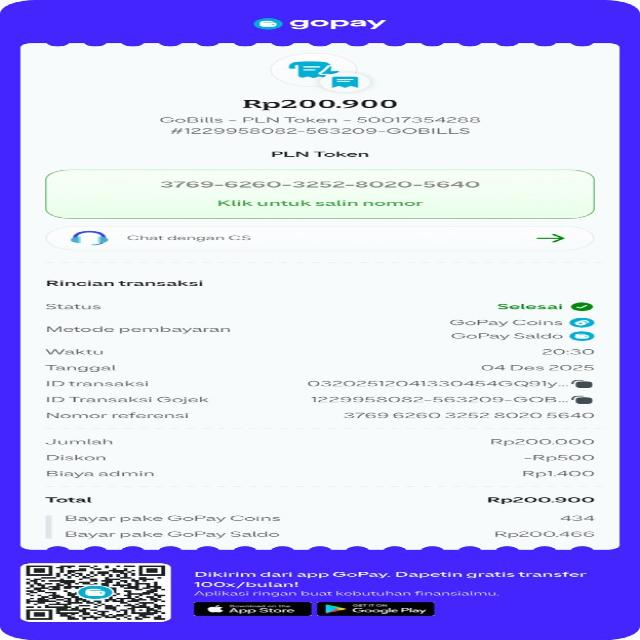date: (476, 361, 602, 375)
store: (260, 148, 377, 161)
total: (40, 494, 604, 506)
